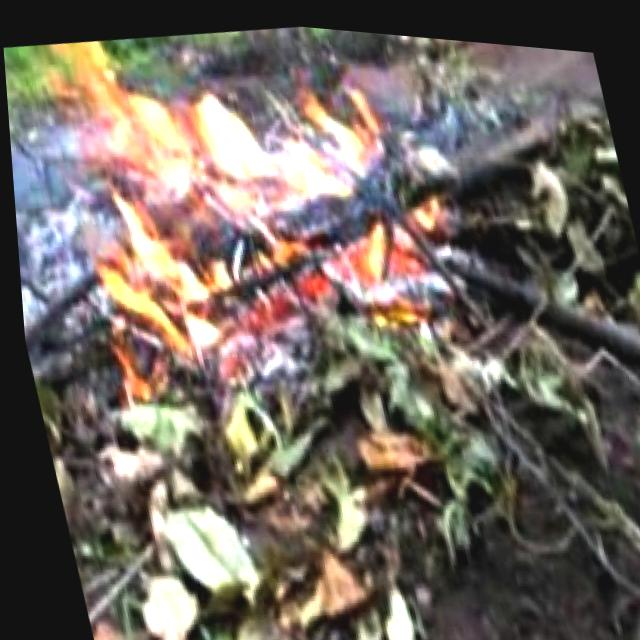helmet: (39, 3, 429, 370)
